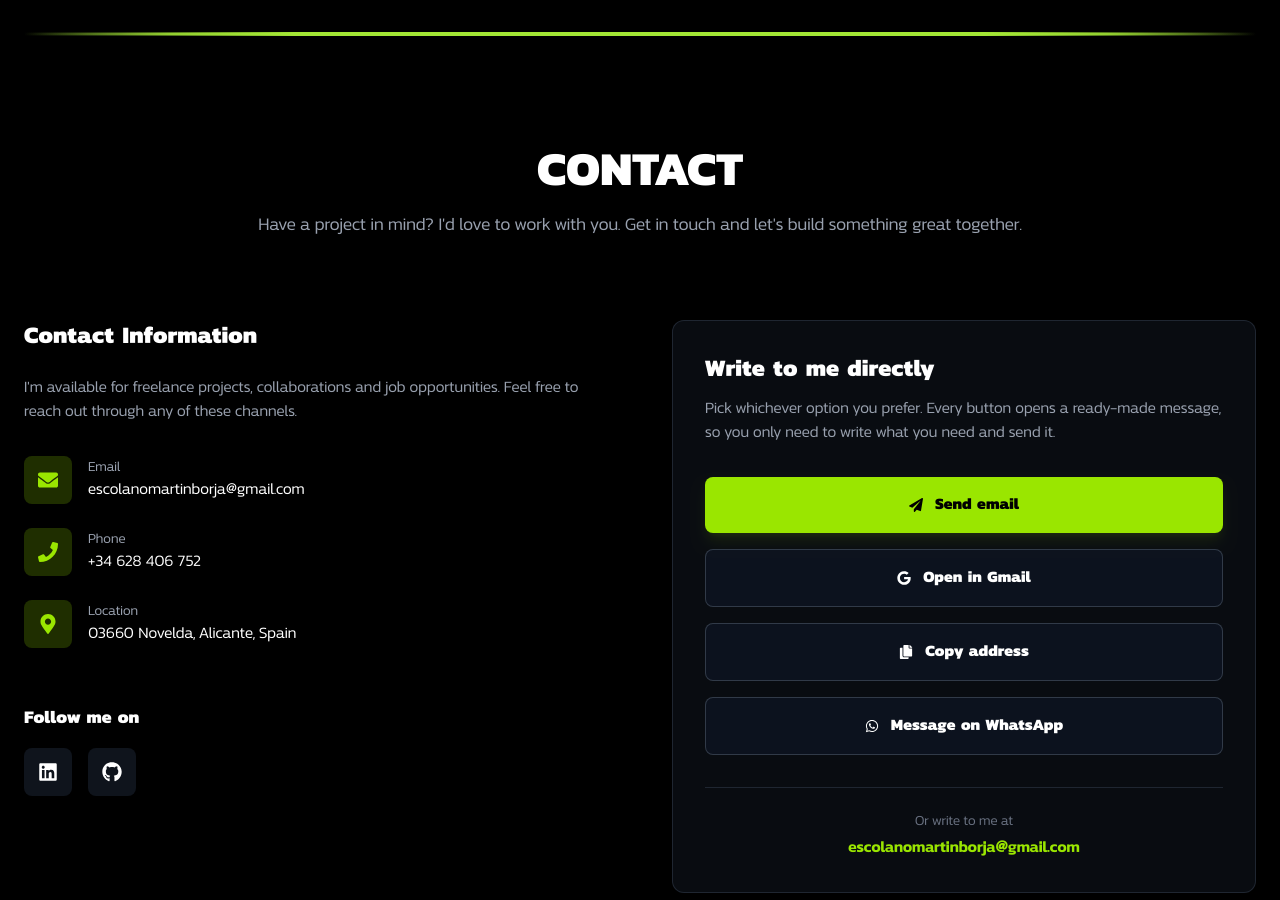
Scenario: Contact en inglés › traduce los textos y el botón de copiar
The width and height of the screenshot is (1280, 900).
expect the heading "CONTACT" is shown: met, box [537,150,743,193]
expect the heading "Contact Information" is shown: met, box [24,325,257,347]
Click the button "Copy address" at (964,652), box [705,623,1223,681]
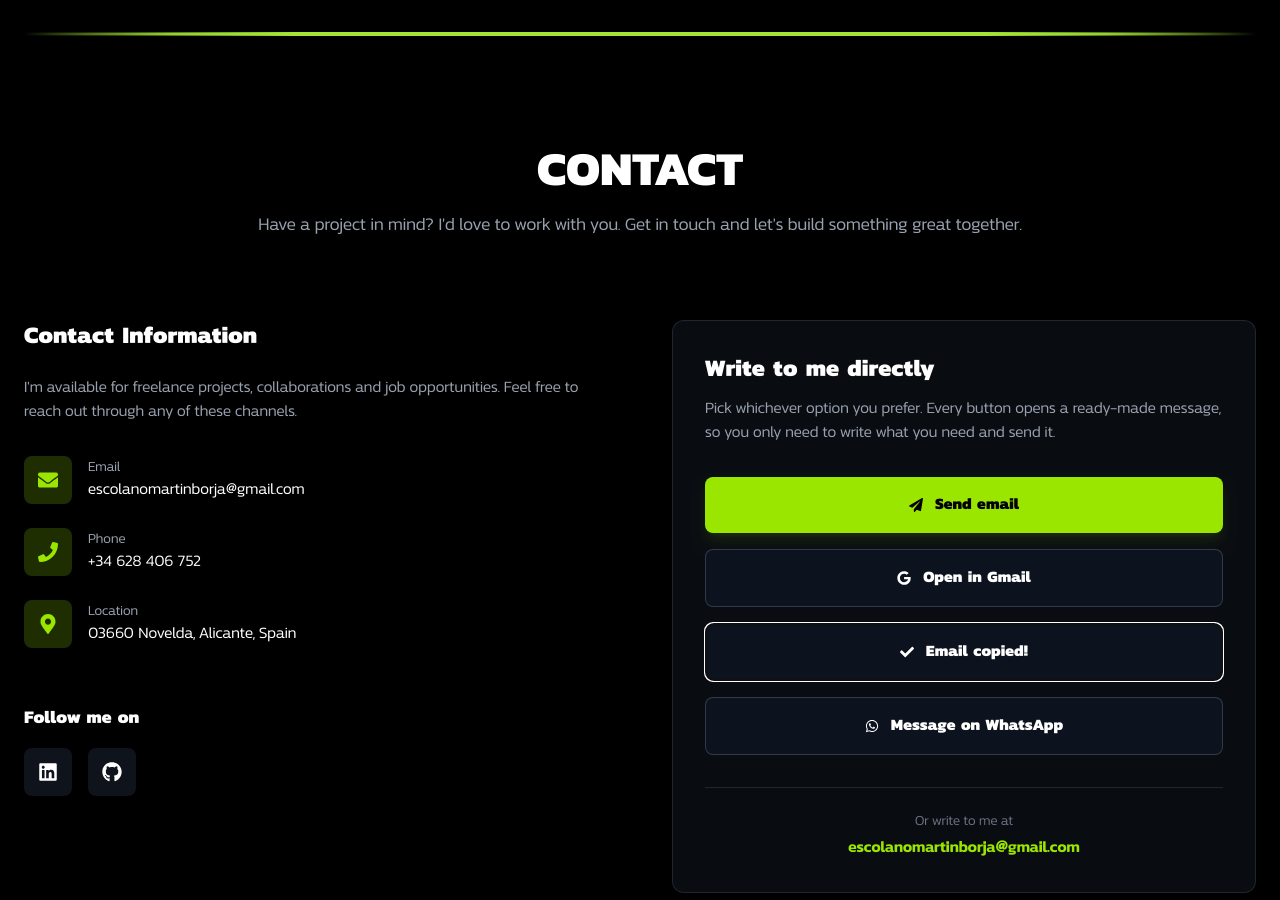
expect the button "Email copied!" is shown: met, box [705,623,1223,681]
